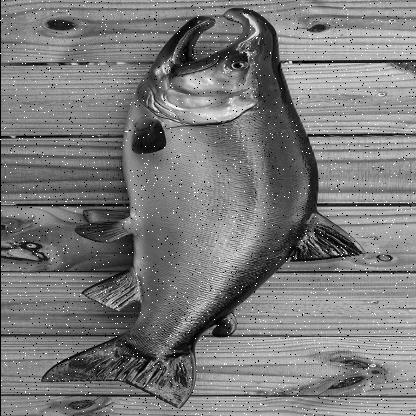fish: (40, 6, 367, 408)
